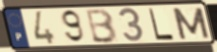3: (117, 6, 146, 45)
4: (33, 10, 58, 47)
9: (60, 9, 86, 44)
B: (85, 8, 120, 45)
L: (147, 7, 176, 41)
M: (170, 7, 212, 41)
